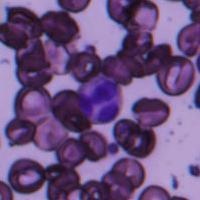N: (78, 72, 122, 125)
